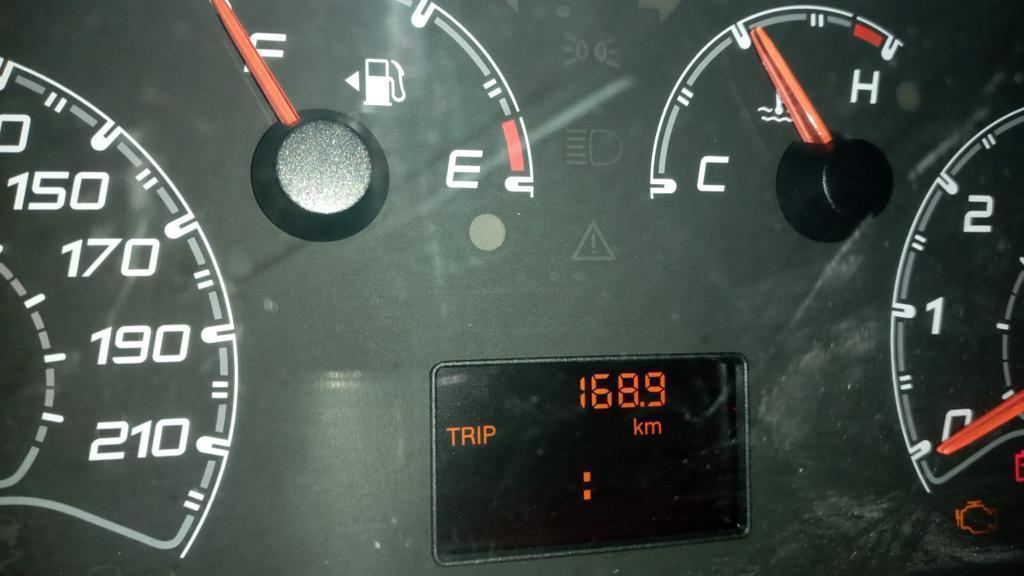,: (639, 401, 645, 408)
1: (578, 373, 588, 410)
6: (590, 370, 614, 412)
8: (616, 371, 639, 409)
9: (644, 370, 668, 408)
X: (578, 465, 597, 503), (482, 423, 497, 445), (445, 425, 460, 447), (644, 419, 662, 437), (461, 424, 475, 447), (632, 415, 644, 437), (476, 424, 481, 446)
odometer: (423, 350, 755, 559)
